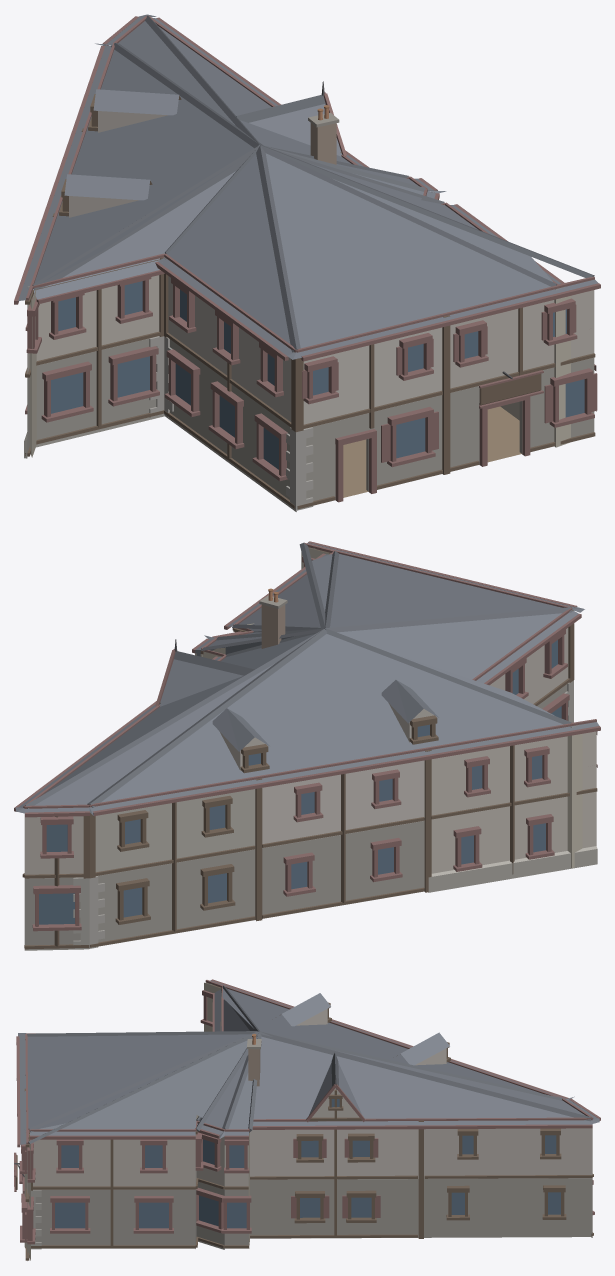
File: b001_closed.glb
3 renders of one model, top to bottom at view 1: azimuth 30°, elevation 25°; view 2: azimuth 150°, elevation 25°; view 3: azimuth 270°, elevation 25°, orthographic. The views are drawn at different scales.
Parts seen in each view (by area): view 1: B001_visible; view 2: B001_visible; view 3: B001_visible.
Part boxes in pixels (x1,y1,x2,y2): B001_visible: (14,14,600,511); B001_visible: (14,541,600,950); B001_visible: (14,979,600,1260).
Bounding box in the file's own units: 19.49 × 10.14 × 28.98.
